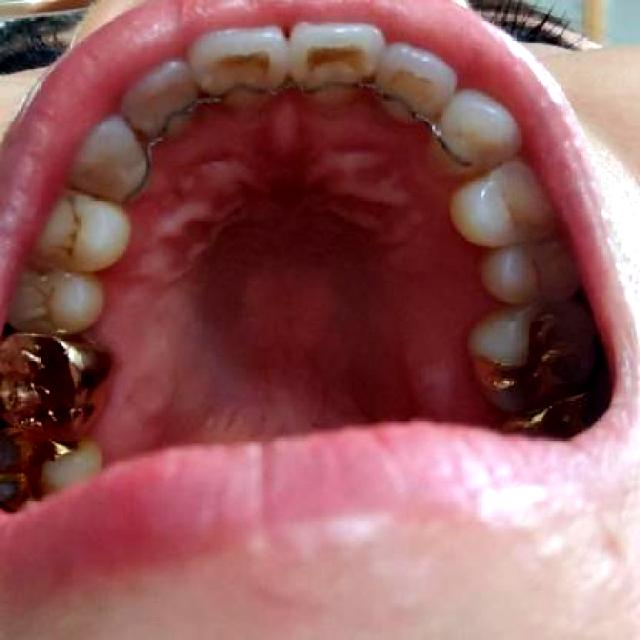Plaque: (50, 194, 96, 260), (23, 272, 76, 329)
